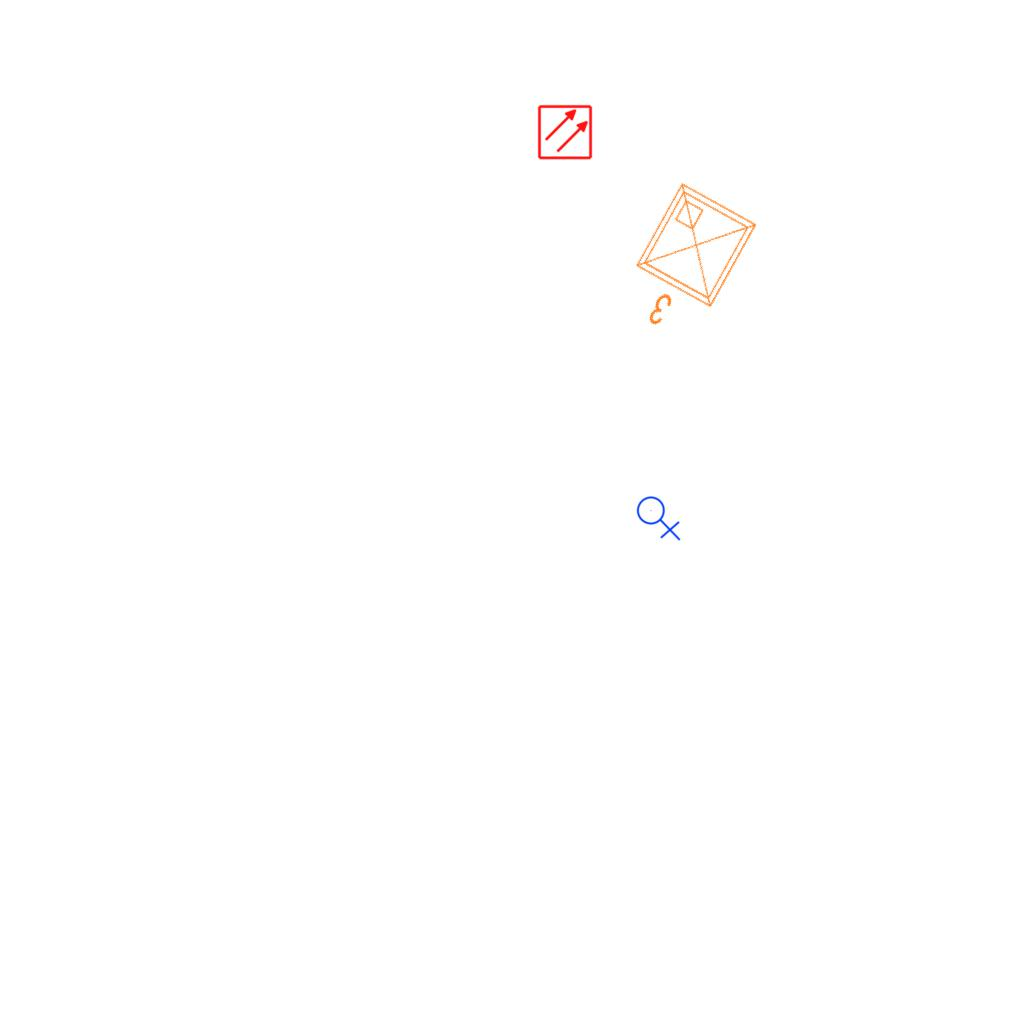Einbaudownlights_LED_Konferenzraeume: (606, 173, 770, 355)
Elektroanschluss_allgemein_230V_Geraeteanschlussdose_230V: (636, 492, 683, 541)
RMO_Rauchmelder_optischer: (537, 104, 593, 160)
